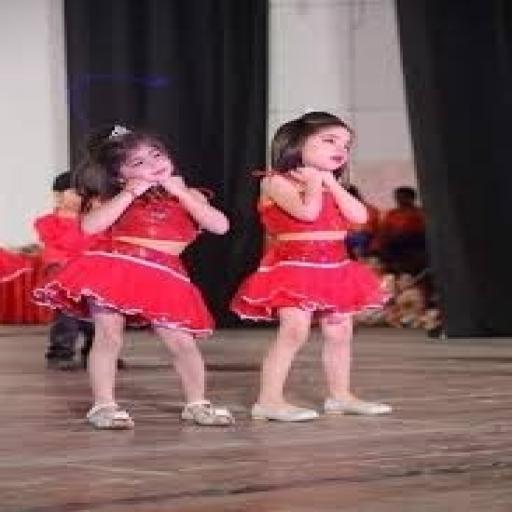dancing: (28, 123, 238, 432), (230, 110, 398, 424)
